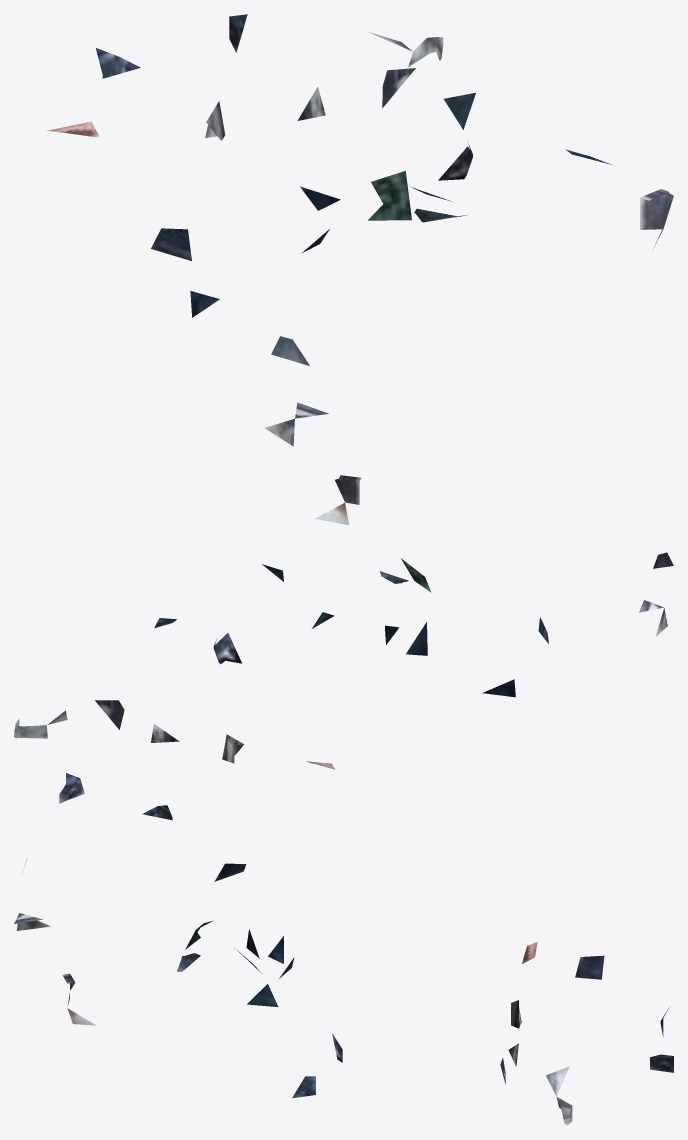
3 renders of one model, top to bottom at view 1: azimuth 30°, elevation 25°; view 2: azimuth 150°, elevation 25°; view 3: azimuth 270°, elevation 25°, orthographic. The views are drawn at different scales.
Parts seen in each view (by area): view 1: 30436272704361506711_1; view 2: 30436272704361506711_1; view 3: 30436272704361506711_1.
Boxes of the visible parts, <box> form: 30436272704361506711_1: <box>46,14,673,446</box>; 30436272704361506711_1: <box>14,475,673,820</box>; 30436272704361506711_1: <box>14,858,673,1125</box>.
Size of the model in its own units: 26.39 by 6.78 by 38.1.
Materials: 1 (1 with a texture image).
